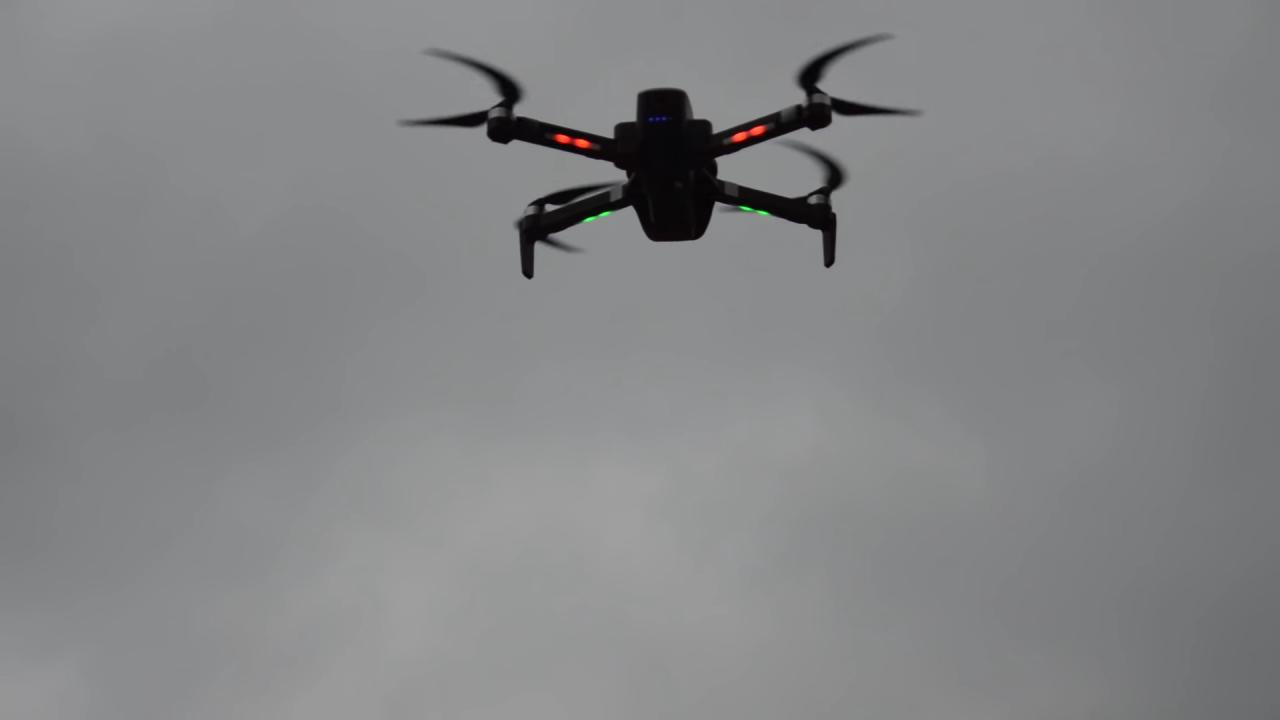Drone: (389, 25, 933, 291)
